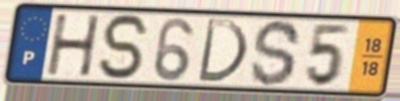5: (304, 21, 353, 89)
6: (150, 15, 196, 84)
D: (194, 16, 251, 86)
H: (45, 13, 104, 78)
S: (248, 18, 304, 89), (97, 12, 153, 83)
